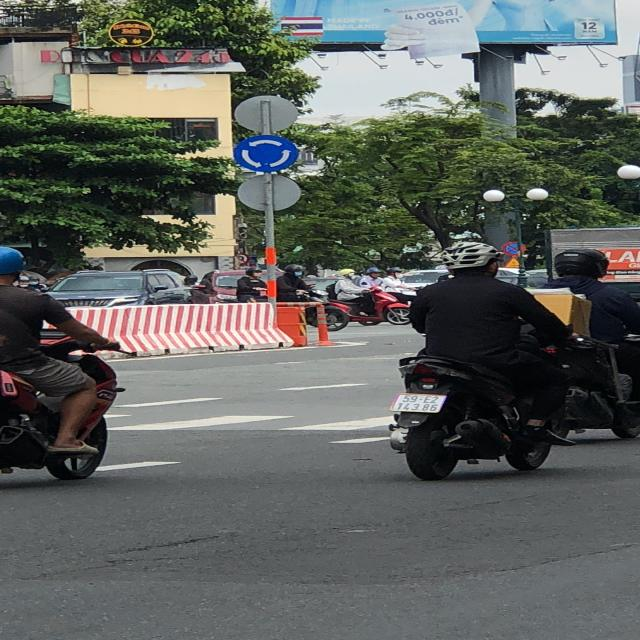Bien bao noi giao nhau chay theo vong xuyen: (230, 132, 304, 174)
